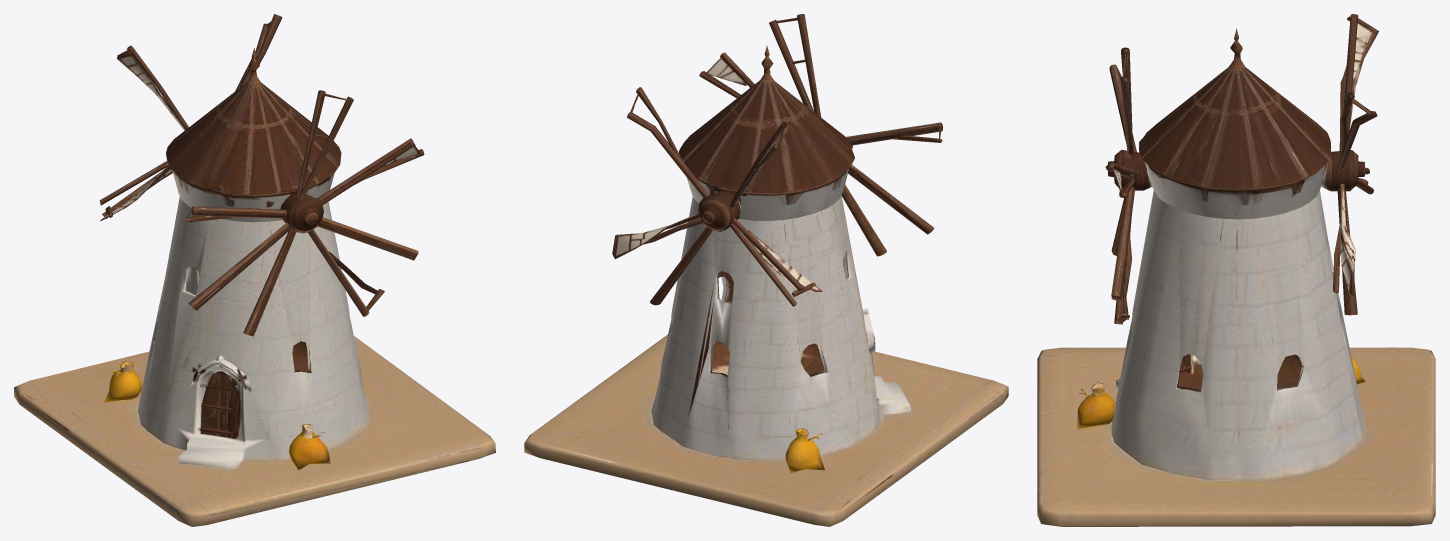
The model's file is windmill.glb.
3 views of the same model, side by side, from view 1: azimuth 30°, elevation 25°; view 2: azimuth 150°, elevation 25°; view 3: azimuth 270°, elevation 25° (orthographic). The views are drawn at different scales.
Bounding box in the file's own units: 0.8188 × 0.9526 × 0.8247.
1 material, 1 textured.
